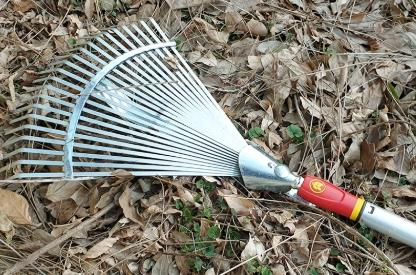RATEAU: (0, 6, 416, 275)
